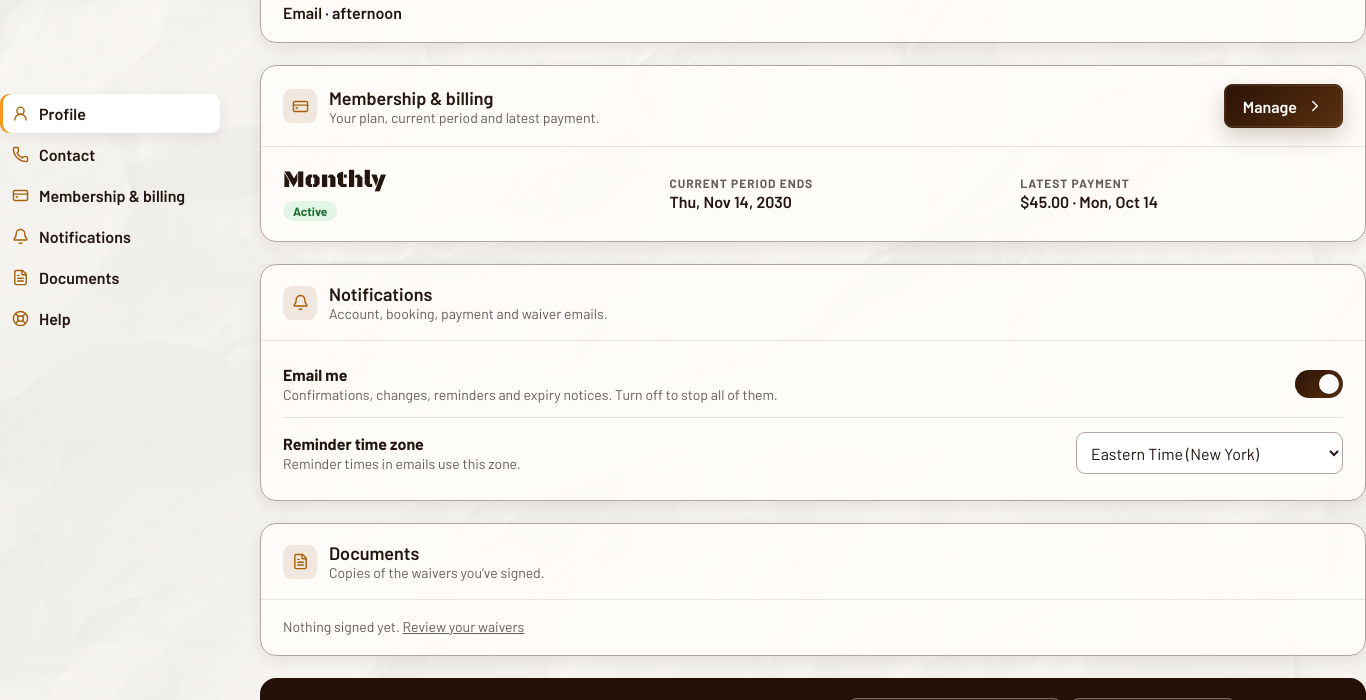
it: the notification switch saves at once and rolls back if saving fails
This screenshot has width=1366, height=700.
(page scrolled)
Click the switch named "Email me" at [1319, 384], box 1295,370 -> 1343,398
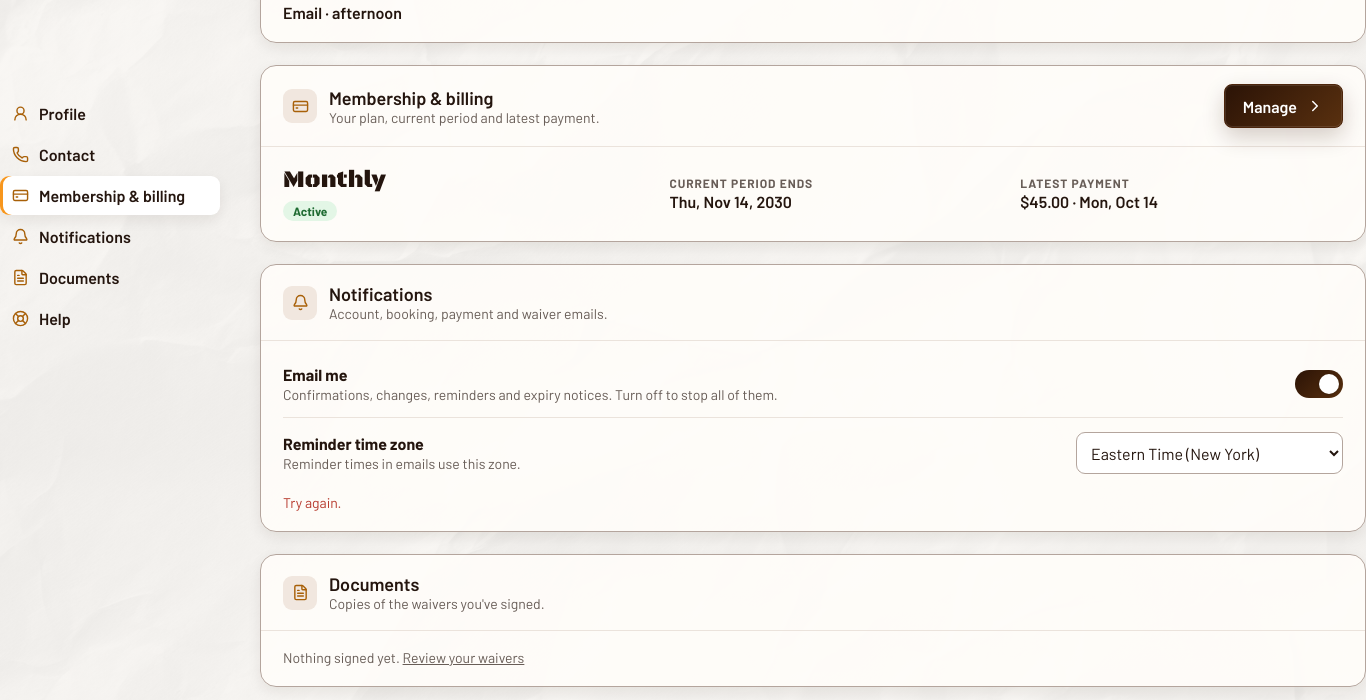
Now the text "Try again." is shown, box 283,494 -> 342,511
